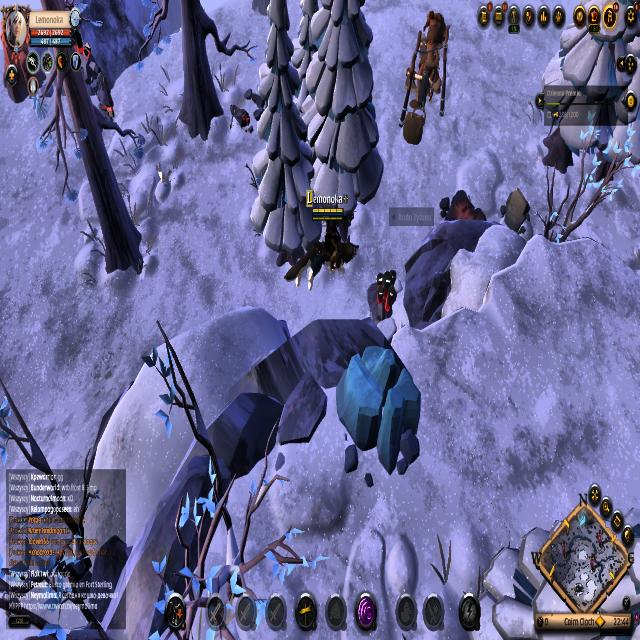ore tier 5: (366, 265, 398, 323)
rock tier 1: (502, 185, 531, 238)
rock tier 4: (337, 340, 423, 473)
